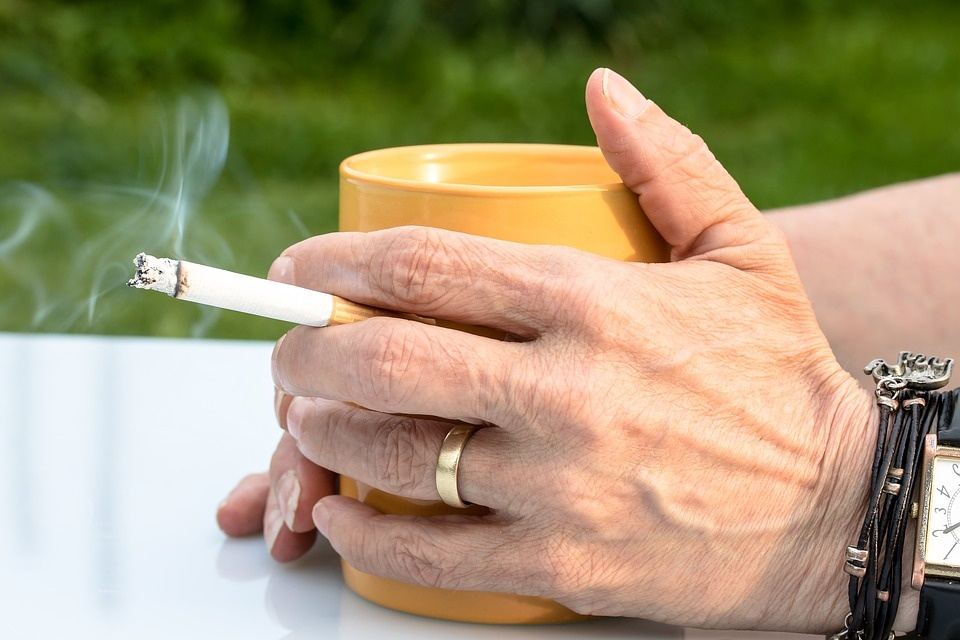sigaretta: (119, 258, 455, 337)
